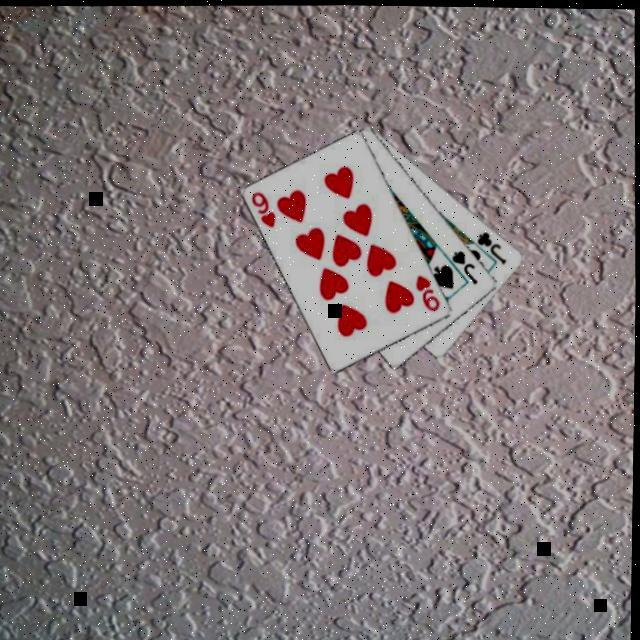9H: (414, 269, 445, 311), (249, 186, 280, 228)
JC: (475, 226, 510, 265)
JS: (450, 244, 482, 285)
